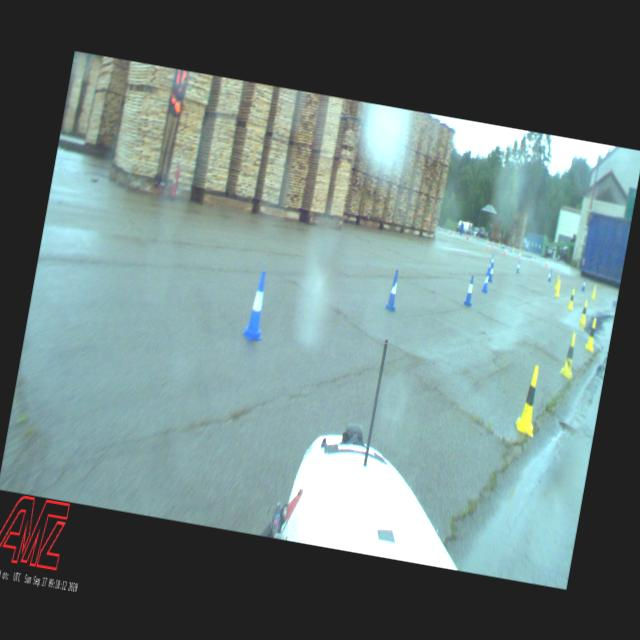blue_cone: (241, 270, 273, 342), (385, 270, 402, 312), (463, 274, 476, 306), (482, 268, 491, 292), (488, 263, 495, 281)
yellow_cone: (514, 363, 544, 436), (558, 332, 579, 378), (584, 318, 598, 351), (578, 300, 590, 324), (566, 288, 576, 309), (554, 280, 561, 297)
